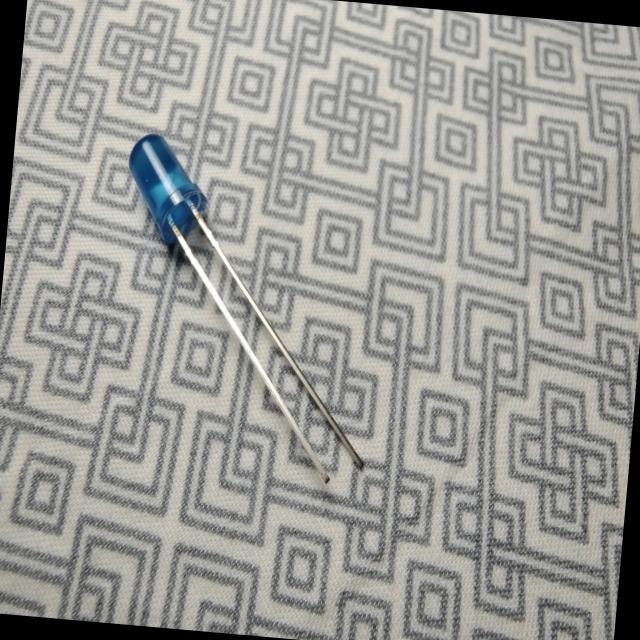blue_led: (100, 128, 392, 488), (120, 129, 214, 252)
